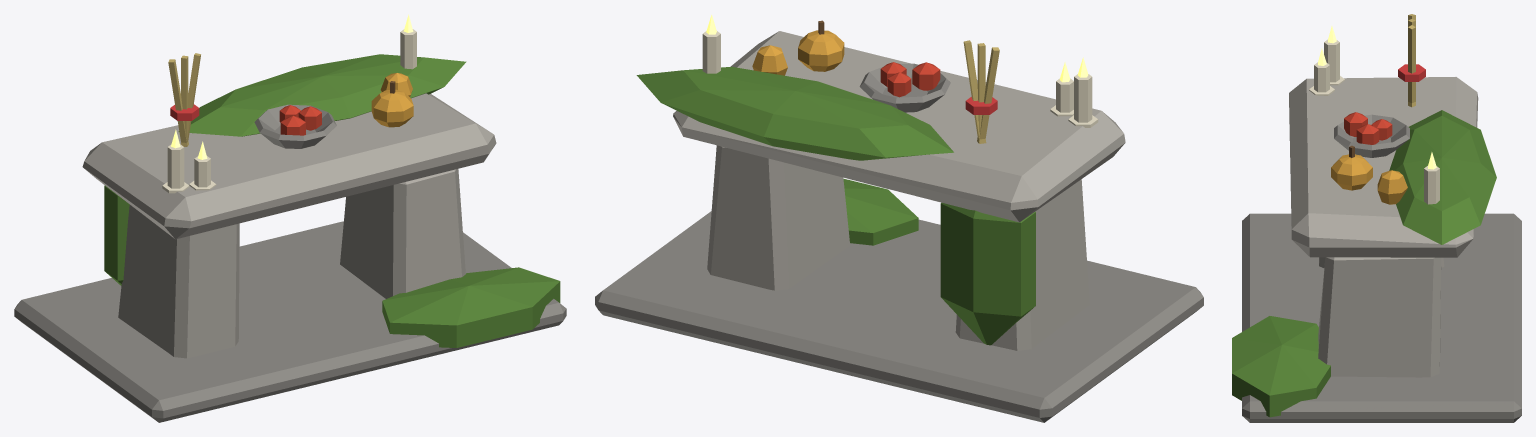
The model's file is grove_altar.gltf.
3 views of the same model, side by side, from view 1: azimuth 30°, elevation 25°; view 2: azimuth 150°, elevation 25°; view 3: azimuth 270°, elevation 25° (orthographic). The views are drawn at different scales.
Visible parts, largest first — view 1: grove_altar; view 2: grove_altar; view 3: grove_altar.
Boxes of the visible parts, x1,y1,x2,y2 form: grove_altar: (14, 14, 566, 422); grove_altar: (595, 14, 1203, 422); grove_altar: (1232, 14, 1521, 422).
Bounding box in the file's own units: 2.32 × 1.47 × 1.45.
